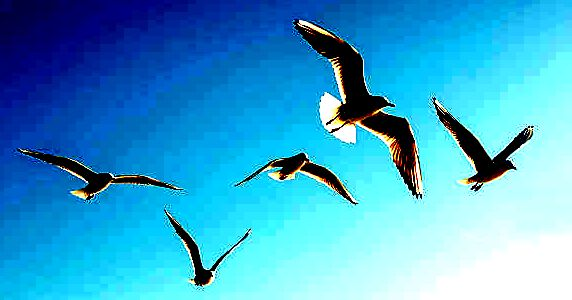Bird: (289, 17, 425, 202), (430, 92, 534, 194), (15, 143, 185, 204), (160, 206, 254, 292), (231, 147, 359, 206)
